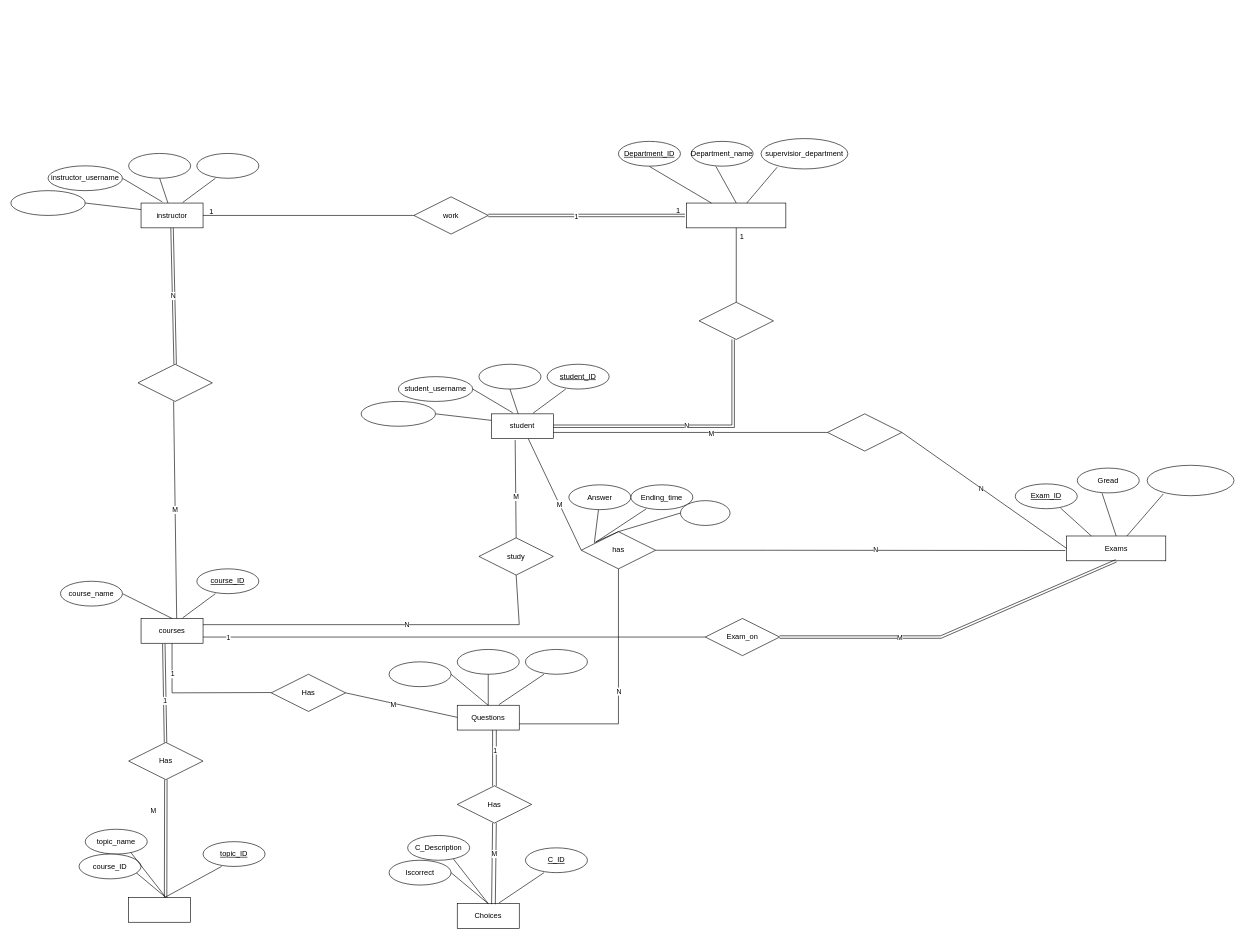
This 1245x939 diagram has some shape labels left out. The shapes that lost their labels are listed below. From the top down, each one's centre as x and y in pixels, then its label:
At [159,165]: "instructor_name".
At [227,165]: "instructoe_ID".
At [47,202]: "instructor_password".
At [736,215]: "deoartment".
At [735,320]: "Study in".
At [174,382]: "teach".
At [509,376]: "student_name".
At [398,413]: "student_password".
At [864,432]: "Take".
At [1190,480]: "Duration".
At [705,512]: "Starting_time".
At [419,674]: "Descreption".
At [488,661]: "Type".
At [556,661]: "Q_ID".
At [159,909]: "topics".
